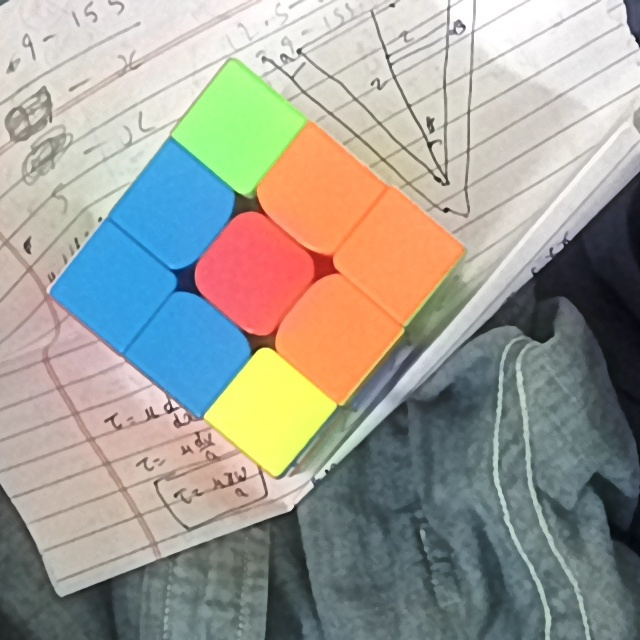tile: (142, 173, 212, 243), (283, 156, 354, 222), (203, 96, 270, 165), (222, 240, 290, 306), (79, 254, 146, 320), (155, 320, 225, 382), (370, 224, 433, 292), (302, 303, 369, 366), (241, 379, 302, 441)
